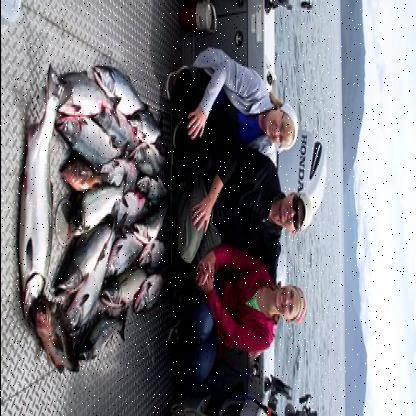fish: (16, 65, 72, 319), (68, 220, 120, 332), (56, 216, 118, 294), (54, 70, 121, 128), (72, 172, 128, 235), (54, 114, 124, 164), (92, 63, 148, 114), (105, 225, 150, 279), (100, 266, 152, 308), (95, 108, 141, 152), (100, 154, 142, 192), (129, 107, 166, 147), (61, 160, 107, 192), (110, 192, 149, 228), (133, 204, 167, 244), (134, 272, 166, 312), (135, 173, 170, 209), (131, 142, 166, 174), (138, 236, 166, 268)
